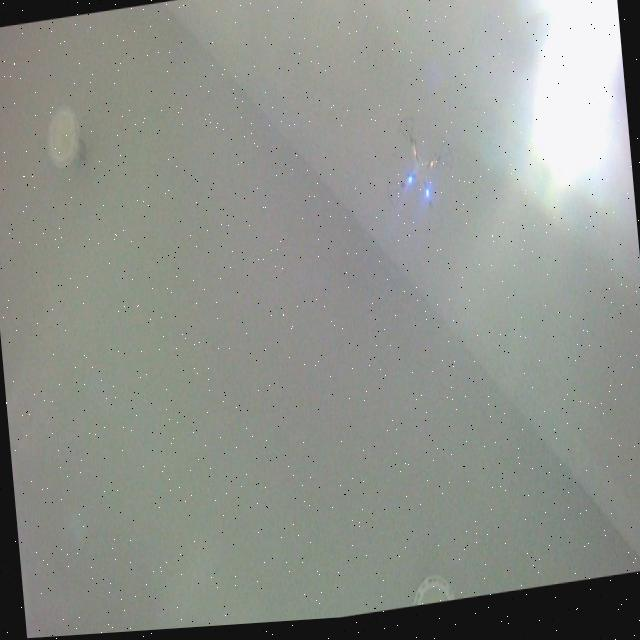drone: (378, 110, 458, 242)
